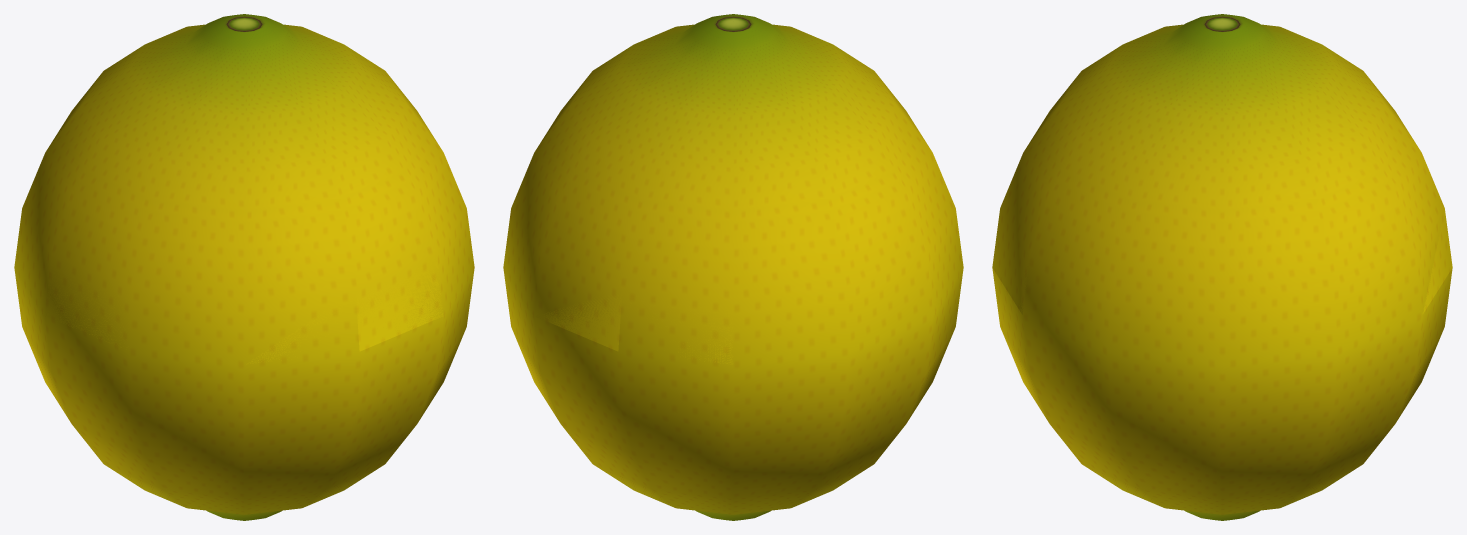
The model's file is Lemon.fbx.
The picture shows the model from 3 angles, left to right: view 1: azimuth 30°, elevation 25°; view 2: azimuth 150°, elevation 25°; view 3: azimuth 270°, elevation 25°; orthographic projection.
Visible parts, largest first — view 1: Lemon_Whole, Lemon_Half_Top; view 2: Lemon_Whole, Lemon_Half_Top; view 3: Lemon_Whole, Lemon_Half_Top.
Boxes of the visible parts, box(x1,y1,x2,y2) form: Lemon_Whole: box(14, 14, 474, 520); Lemon_Half_Top: box(46, 257, 442, 364); Lemon_Whole: box(503, 14, 963, 520); Lemon_Half_Top: box(536, 290, 732, 364); Lemon_Whole: box(992, 14, 1452, 520); Lemon_Half_Top: box(992, 208, 1452, 314).
Size of the model in its own units: 1.57 by 1.86 by 1.57.
